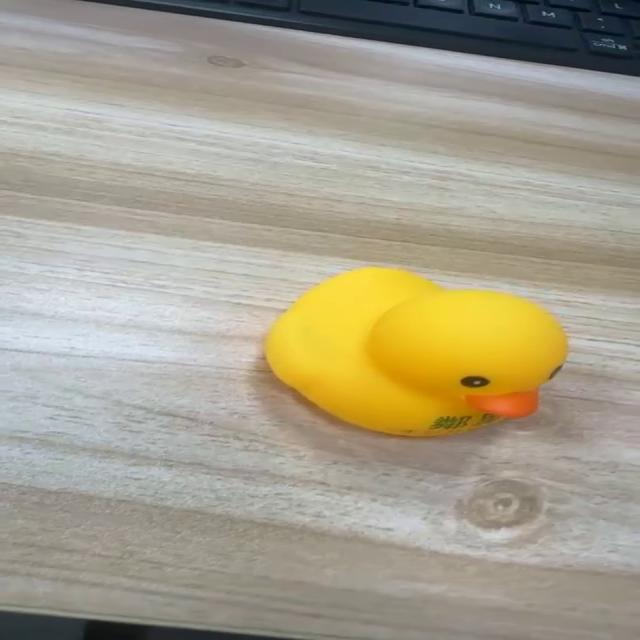yellow_duck: (261, 265, 569, 438)
